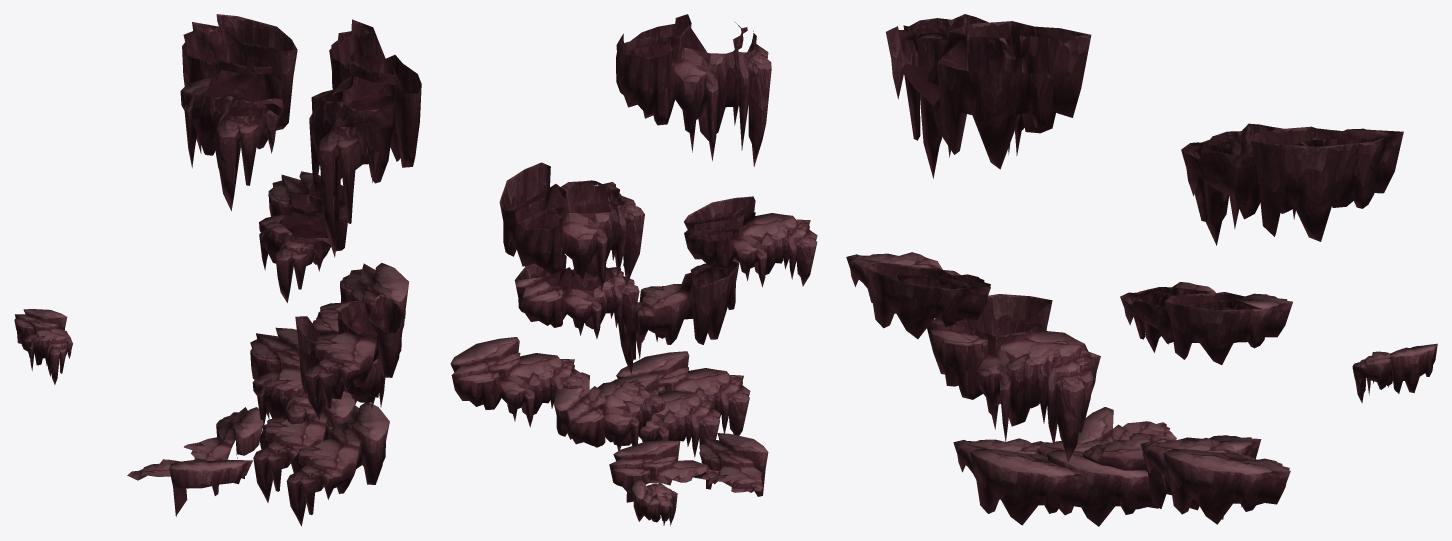
Rendered from Area_02_1.fbx.
The picture shows the model from 3 angles, left to right: view 1: azimuth 30°, elevation 25°; view 2: azimuth 150°, elevation 25°; view 3: azimuth 270°, elevation 25°; orthographic projection. The views are drawn at different scales.
Parts seen in each view (by area): view 1: Area_02_1; view 2: Area_02_1; view 3: Area_02_1.
Boxes of the visible parts, box(x1,y1,x2,y2) form: Area_02_1: box(14, 14, 421, 526); Area_02_1: box(450, 14, 817, 526); Area_02_1: box(846, 14, 1437, 526).
Bounding box in the file's own units: 7343 × 10590 × 10691.
